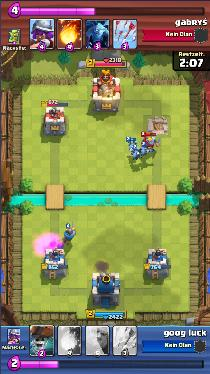ally_knight: (62, 226, 76, 244)
ally_minion: (139, 146, 149, 156), (127, 140, 136, 151), (131, 149, 140, 160)
enemy_knight: (138, 135, 160, 153)
